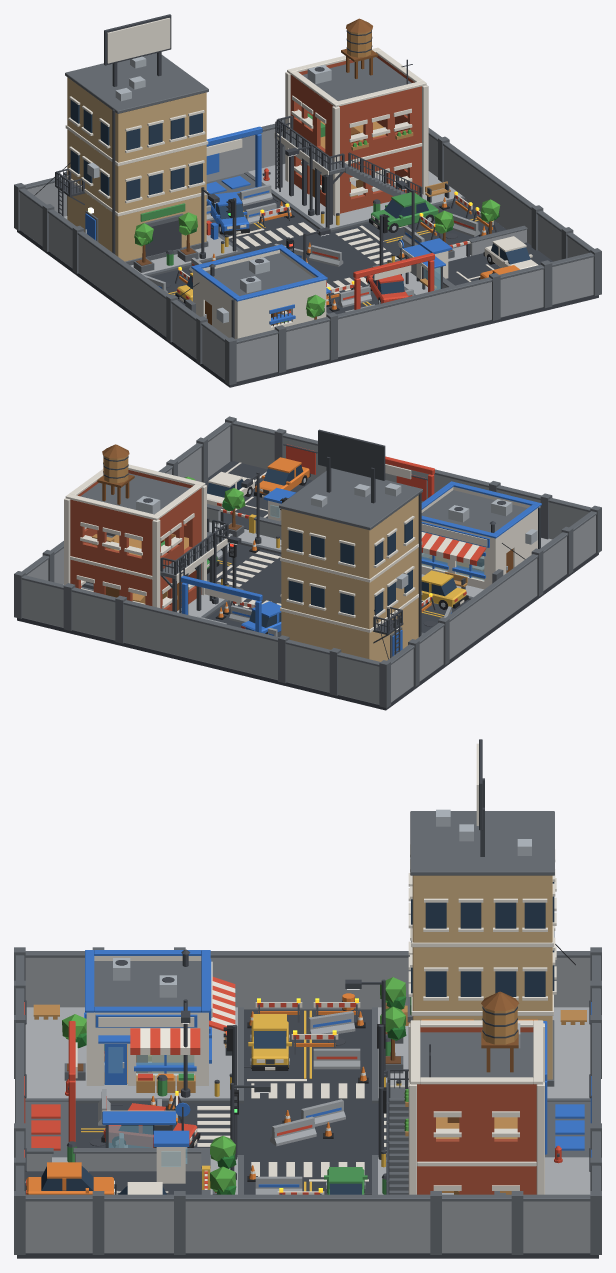
The model's file is city_crossroads.glb.
3 renders of one model, top to bottom at view 1: azimuth 30°, elevation 25°; view 2: azimuth 150°, elevation 25°; view 3: azimuth 270°, elevation 25°, orthographic. The views are drawn at different scales.
Parts seen in each view (by area): view 1: city_crossroads.019, city_crossroads.007, city_crossroads.009, city_crossroads.014, city_crossroads.018, city_crossroads.005, city_crossroads.013, city_crossroads.002, city_crossroads.016, city_crossroads.024, city_crossroads.003, city_crossroads.001 (+7 smaller); view 2: city_crossroads.019, city_crossroads.007, city_crossroads.009, city_crossroads.014, city_crossroads.013, city_crossroads.005, city_crossroads.018, city_crossroads.002, city_crossroads.016, city_crossroads.003, city_crossroads.001, city_crossroads.006 (+6 smaller); view 3: city_crossroads.019, city_crossroads.007, city_crossroads.009, city_crossroads.018, city_crossroads.014, city_crossroads.024, city_crossroads.013, city_crossroads.002, city_crossroads.016, city_crossroads.003, city_crossroads.005, city_crossroads.006 (+9 smaller).
Boxes of the visible parts, <box> form: city_crossroads.019: <box>20,129,593,381</box>; city_crossroads.007: <box>14,53,601,385</box>; city_crossroads.009: <box>65,18,538,339</box>; city_crossroads.014: <box>67,77,206,261</box>; city_crossroads.018: <box>17,194,598,387</box>; city_crossroads.005: <box>55,14,496,338</box>; city_crossroads.013: <box>290,55,421,213</box>; city_crossroads.002: <box>85,126,452,324</box>; city_crossroads.016: <box>70,100,530,294</box>; city_crossroads.024: <box>64,164,470,294</box>; city_crossroads.003: <box>177,168,491,313</box>; city_crossroads.001: <box>85,56,490,323</box>; city_crossroads.019: <box>22,425,595,704</box>; city_crossroads.007: <box>14,416,601,707</box>; city_crossroads.009: <box>64,462,540,632</box>; city_crossroads.014: <box>281,495,418,661</box>; city_crossroads.013: <box>70,470,201,610</box>; city_crossroads.005: <box>103,429,540,654</box>; city_crossroads.018: <box>17,461,598,710</box>; city_crossroads.002: <box>181,481,541,656</box>; city_crossroads.016: <box>207,465,456,627</box>; city_crossroads.003: <box>217,444,486,628</box>; city_crossroads.001: <box>136,478,537,654</box>; city_crossroads.006: <box>92,455,483,603</box>; city_crossroads.019: <box>25,957,590,1253</box>; city_crossroads.007: <box>14,811,601,1254</box>; city_crossroads.009: <box>25,743,556,1194</box>; city_crossroads.018: <box>17,1009,598,1258</box>; city_crossroads.014: <box>412,875,552,1079</box>; city_crossroads.024: <box>25,1007,590,1194</box>; city_crossroads.013: <box>417,1027,536,1194</box>; city_crossroads.002: <box>84,950,591,1187</box>; city_crossroads.016: <box>41,882,554,1194</box>; city_crossroads.003: <box>24,977,562,1194</box>; city_crossroads.005: <box>24,739,591,1194</box>; city_crossroads.006: <box>33,1002,586,1194</box>.
Size of the model in its own units: 35.35 by 20.12 by 35.35.
